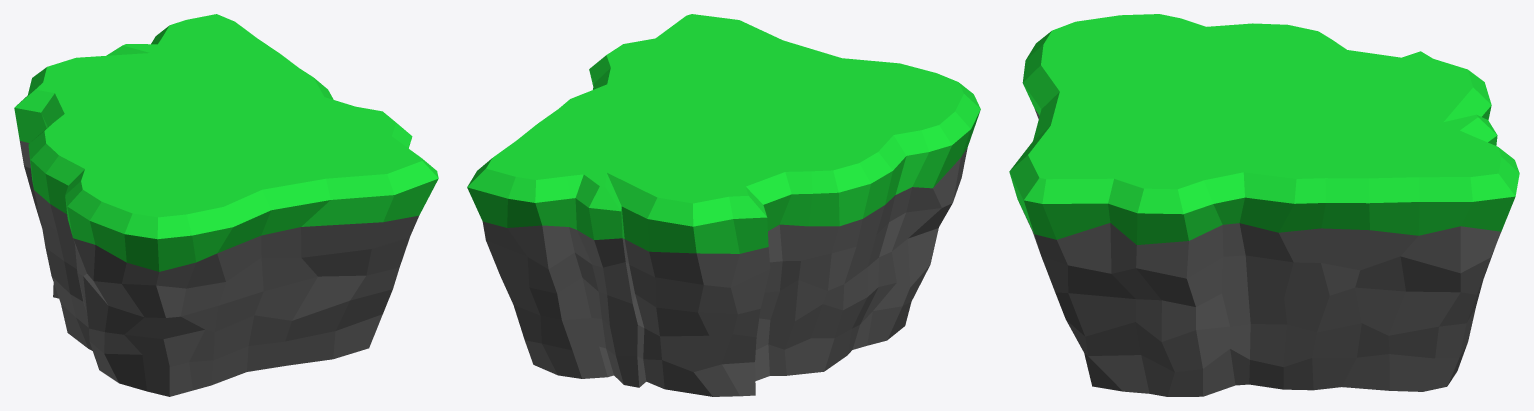
Rendered from cliff_2.fbx.
3 renders of one model, left to right at view 1: azimuth 30°, elevation 25°; view 2: azimuth 150°, elevation 25°; view 3: azimuth 270°, elevation 25°, orthographic. The views are drawn at different scales.
Parts seen in each view (by area): view 1: cliff2; view 2: cliff2; view 3: cliff2.
Boxes of the visible parts, x1,y1,x2,y2 form: cliff2: [14, 14, 438, 396]; cliff2: [467, 14, 980, 396]; cliff2: [1009, 14, 1519, 396].
Bounding box in the file's own units: 262 × 150 × 301.
